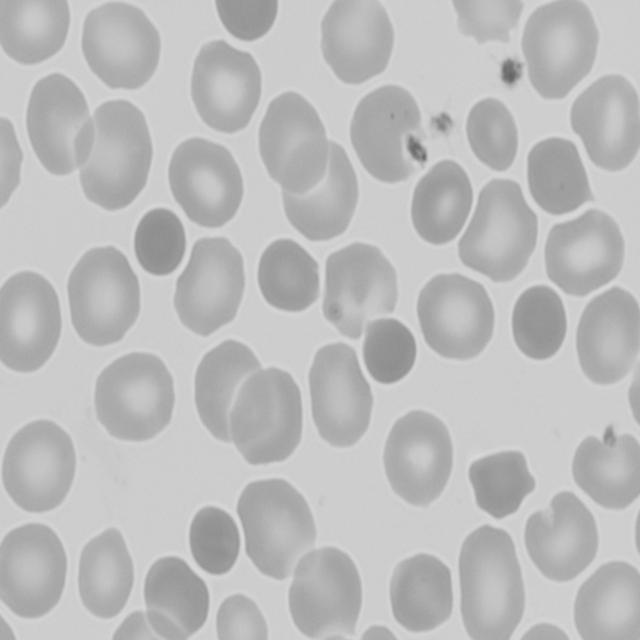RBC: (72, 92, 157, 214), (416, 162, 511, 264), (456, 177, 540, 286), (455, 523, 530, 640), (274, 136, 356, 241), (519, 0, 602, 102), (65, 242, 144, 349), (75, 0, 163, 95), (378, 408, 456, 512), (238, 474, 316, 578), (0, 416, 77, 520), (229, 362, 306, 466), (92, 351, 178, 444), (540, 210, 628, 300), (303, 338, 373, 451), (414, 270, 499, 363), (172, 236, 250, 337), (188, 36, 266, 136), (170, 134, 248, 232), (254, 88, 328, 190), (285, 540, 363, 636), (22, 72, 93, 176), (568, 72, 640, 174), (526, 490, 602, 585), (318, 0, 398, 88), (0, 520, 69, 622), (573, 284, 640, 386), (0, 269, 64, 373), (568, 426, 640, 513), (406, 157, 473, 250), (524, 132, 594, 220), (138, 552, 208, 640), (74, 529, 138, 624), (384, 550, 456, 634), (572, 559, 640, 640), (252, 237, 320, 314), (0, 0, 73, 67), (469, 450, 532, 526), (464, 98, 522, 174), (445, 0, 527, 47), (204, 0, 283, 44), (213, 588, 273, 640), (106, 614, 186, 640), (624, 341, 640, 450), (511, 622, 579, 640)
Spherocyte: (507, 284, 568, 361), (186, 503, 241, 580), (362, 314, 416, 389), (130, 208, 186, 277)
